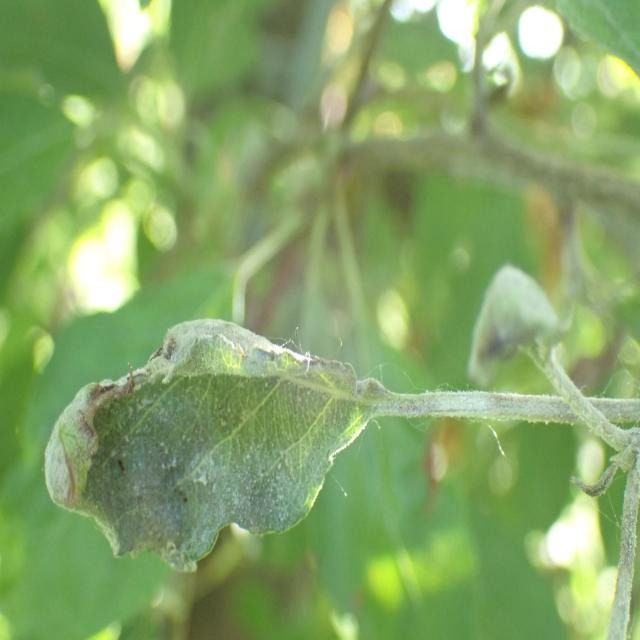Powdery_mildew: (15, 312, 442, 596), (457, 245, 637, 491)
